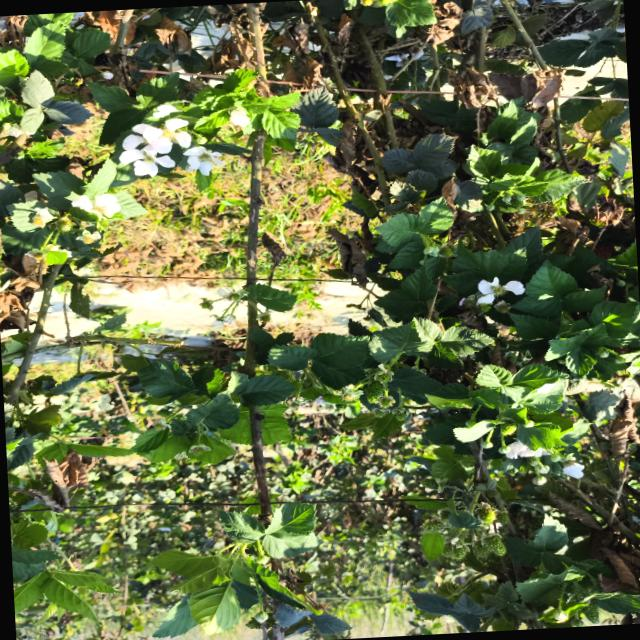boton: (532, 475, 547, 485), (538, 464, 550, 474), (196, 136, 208, 145), (551, 453, 562, 462), (523, 421, 536, 428), (483, 440, 493, 449), (499, 445, 510, 453)
flor: (133, 118, 191, 153), (121, 146, 175, 176), (184, 146, 225, 176), (72, 193, 121, 218), (230, 108, 251, 127), (563, 463, 584, 479)
